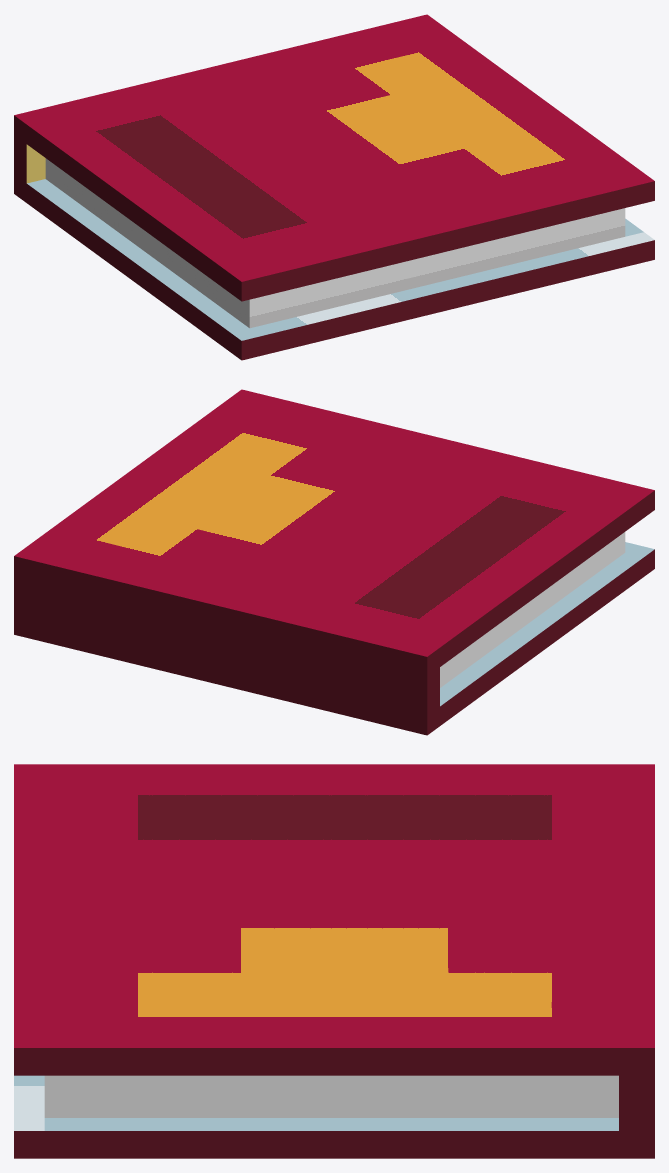
Rendered from book_2.fbx.
3 views of the same model, one above another, from view 1: azimuth 30°, elevation 25°; view 2: azimuth 150°, elevation 25°; view 3: azimuth 270°, elevation 25° (orthographic). The views are drawn at different scales.
Parts seen in each view (by area): view 1: cuboid; view 2: cuboid; view 3: cuboid.
Boxes of the visible parts, x1,y1,x2,y2 form: cuboid: (14,14,654,360); cuboid: (14,389,654,735); cuboid: (14,764,654,1158).
Bounding box in the file's own units: 13.75 × 2.5 × 13.12.
1 material, 1 textured.
